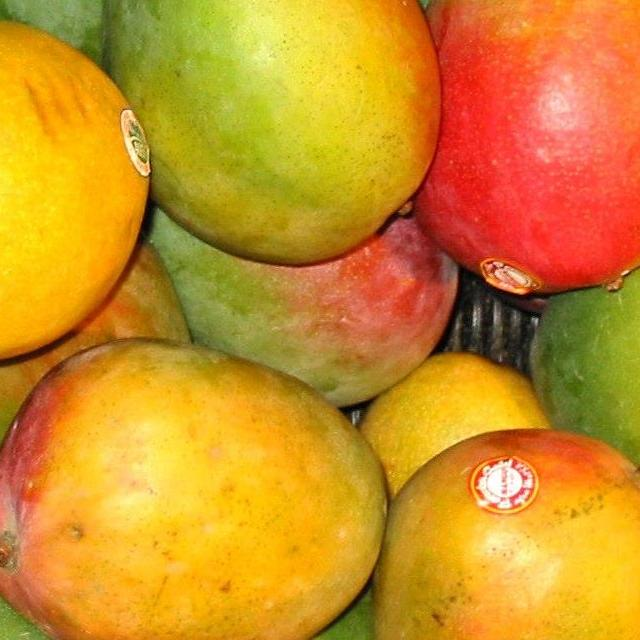mango: (0, 338, 394, 640), (94, 0, 443, 266), (141, 210, 464, 412), (369, 428, 640, 640), (0, 18, 155, 372)
